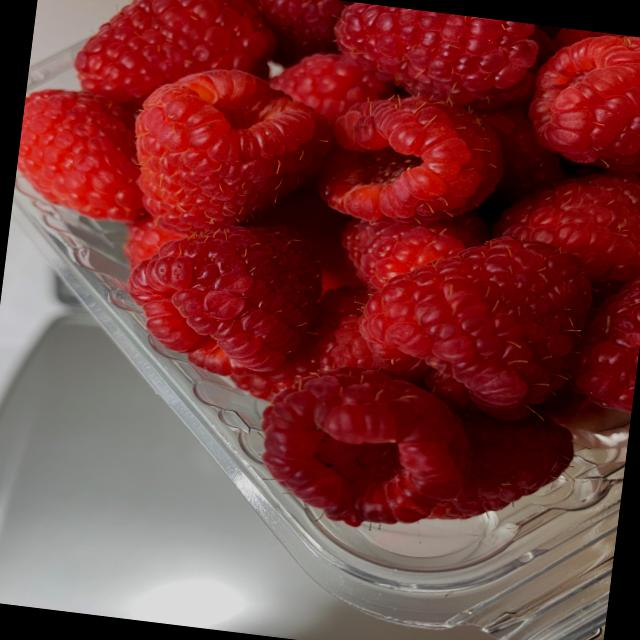raspberries: (50, 0, 640, 565)
